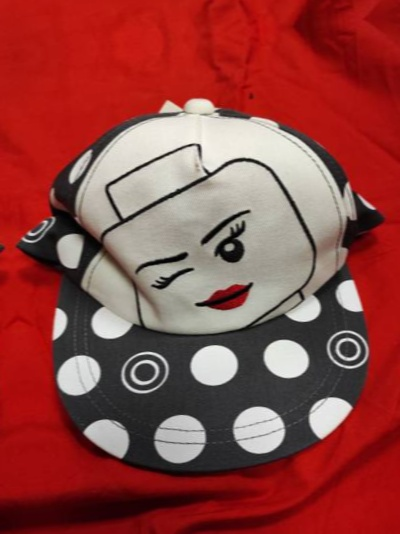Hat: (1, 67, 400, 513), (0, 109, 32, 534), (0, 0, 373, 8)
